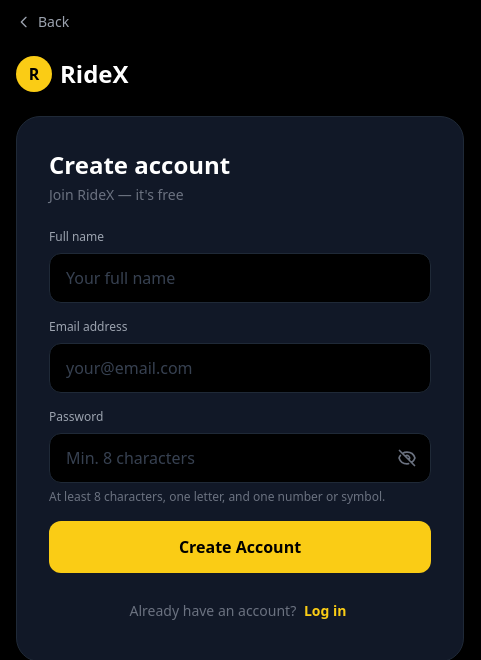
Register page › shows error for weak password (too short)
Step 1. Type "Alice" into the field with placeholder "Your full name" → (240, 278), box [49,253,431,303]
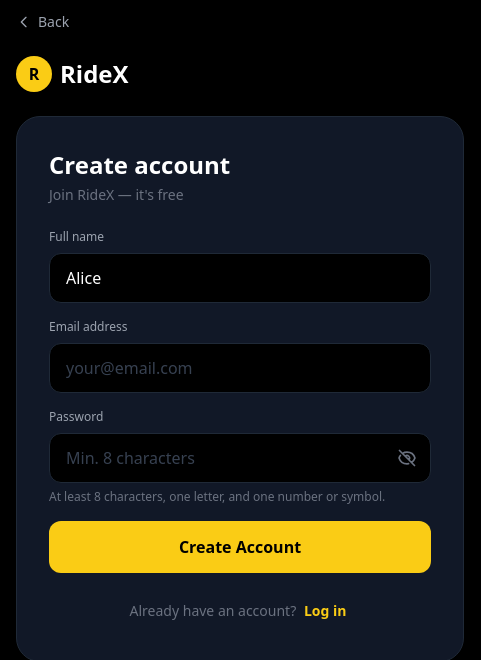
Step 2. Type "a@b.com" into the field with placeholder "your@email.com" → (240, 368), box [49,343,431,393]
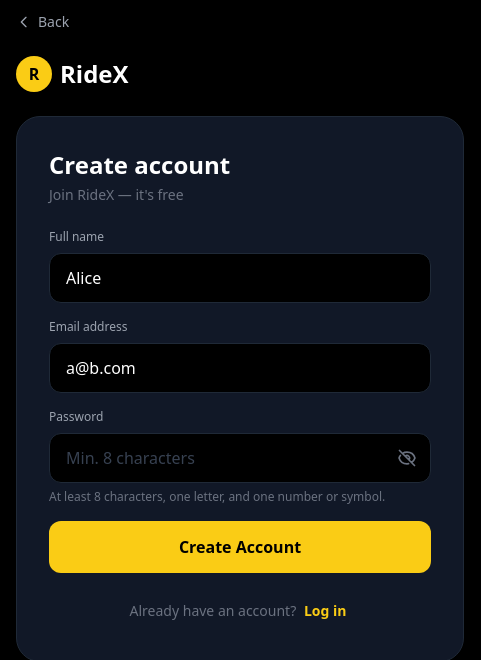
Step 3. Type "short" into the password field with placeholder "Min. 8 characters" → (240, 458), box [49,433,431,483]
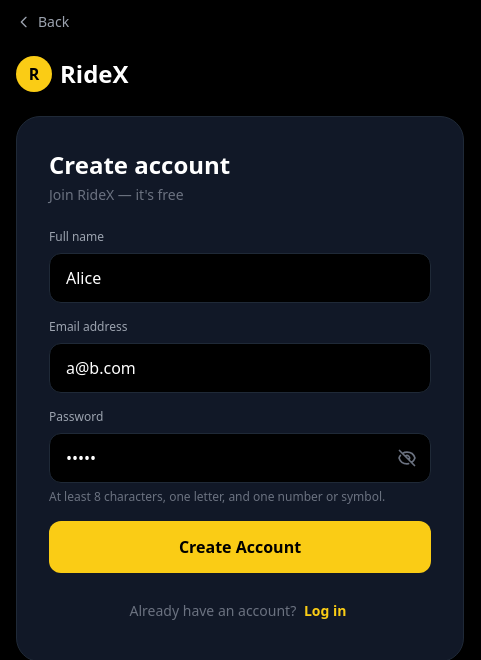
Step 4. Click the button "Create Account" → (240, 547), box [49,521,431,573]
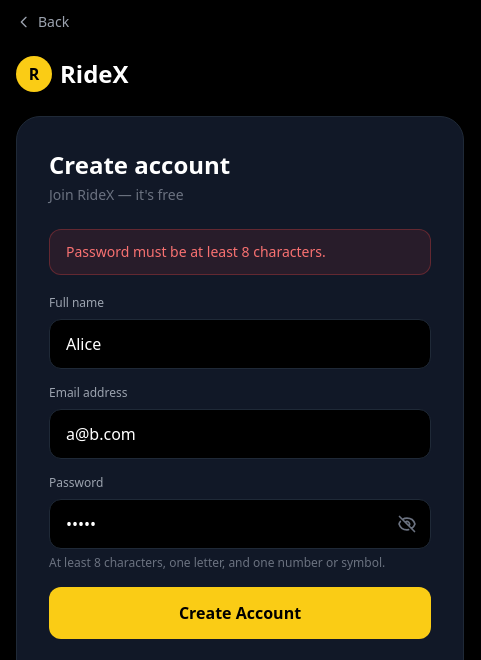
Expected: the text "Password must be at least 8 characters." is shown, [66,242,326,261]
